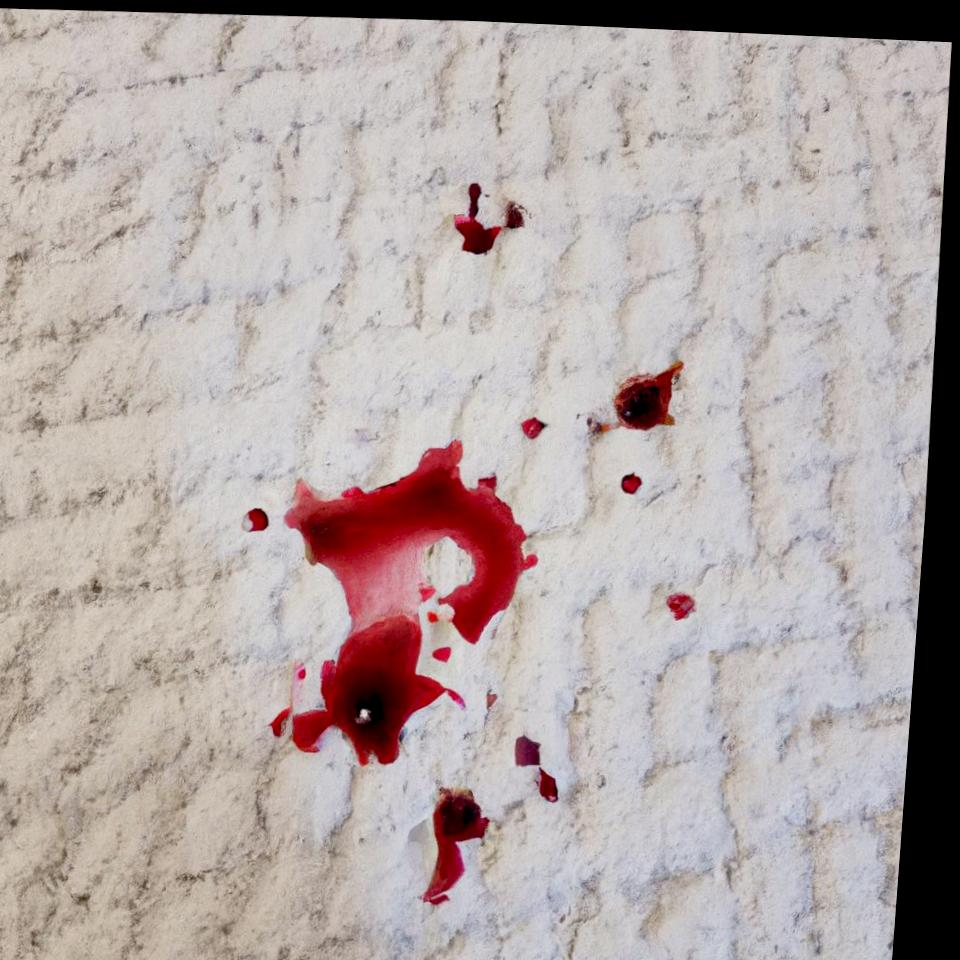Fire: (291, 433, 547, 763), (436, 781, 504, 900), (618, 353, 688, 425), (455, 178, 505, 251), (545, 760, 570, 797), (526, 728, 553, 762), (505, 194, 531, 224), (526, 411, 554, 434), (254, 504, 277, 529), (627, 465, 648, 488)
